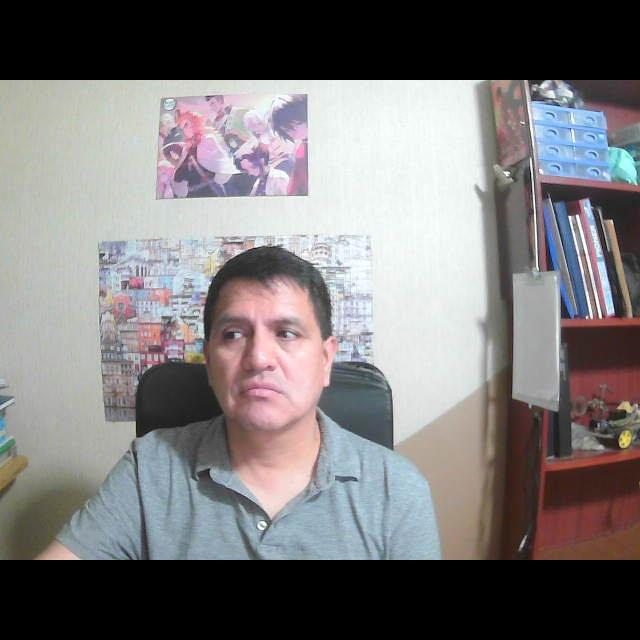cesar: (186, 232, 350, 472)
